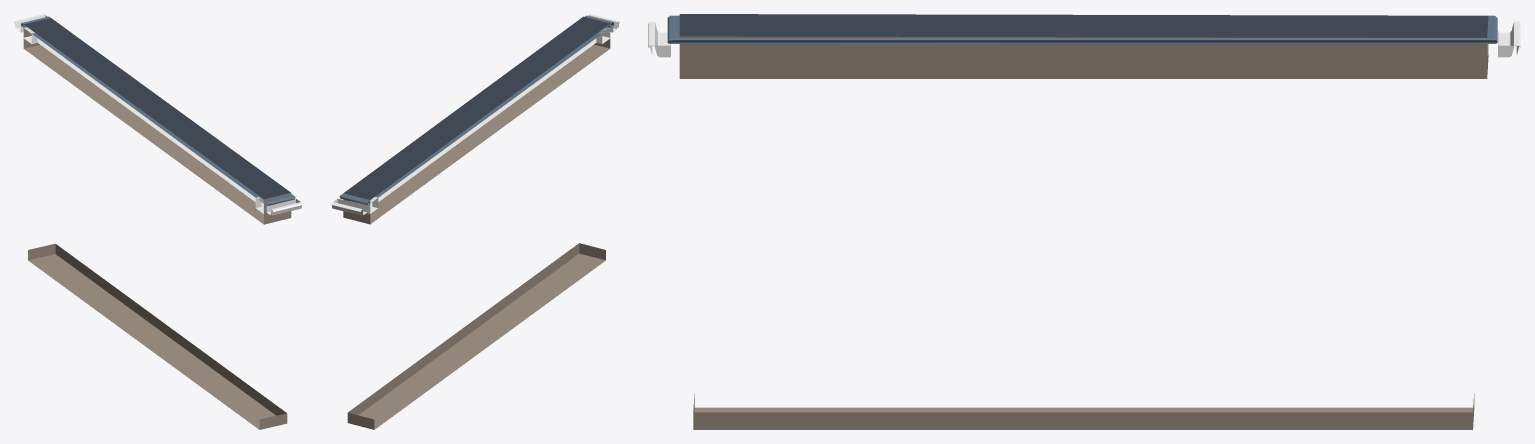
File: si_res_endcap_roof_flat_r.dae
3 renders of one model, left to right at view 1: azimuth 30°, elevation 25°; view 2: azimuth 150°, elevation 25°; view 3: azimuth 270°, elevation 25°, orthographic. The views are drawn at different scales.
Visible parts, largest first — view 1: si_res_endcap_roof_flat_r_a10, Colmesh-1, si_res_endcap_roof_flat_r_a300, si_res_endcap_roof_flat_r_a40; view 2: si_res_endcap_roof_flat_r_a10, Colmesh-1, si_res_endcap_roof_flat_r_a300, si_res_endcap_roof_flat_r_a40; view 3: si_res_endcap_roof_flat_r_a10, Colmesh-1, si_res_endcap_roof_flat_r_a300.
Part boxes in pixels (x1=…): si_res_endcap_roof_flat_r_a10: x1=23, y1=18, x2=291, y2=429; Colmesh-1: x1=24, y1=45, x2=286, y2=415; si_res_endcap_roof_flat_r_a300: x1=14, y1=14, x2=302, y2=214; si_res_endcap_roof_flat_r_a40: x1=14, y1=22, x2=301, y2=215; si_res_endcap_roof_flat_r_a10: x1=343, y1=16, x2=610, y2=429; Colmesh-1: x1=348, y1=44, x2=609, y2=415; si_res_endcap_roof_flat_r_a300: x1=331, y1=14, x2=619, y2=214; si_res_endcap_roof_flat_r_a40: x1=332, y1=22, x2=619, y2=215; si_res_endcap_roof_flat_r_a10: x1=679, y1=14, x2=1488, y2=427; Colmesh-1: x1=693, y1=412, x2=1472, y2=429; si_res_endcap_roof_flat_r_a300: x1=648, y1=15, x2=1520, y2=57.
Size of the model in its own units: 0.4444 by 6.76 by 3.36.
